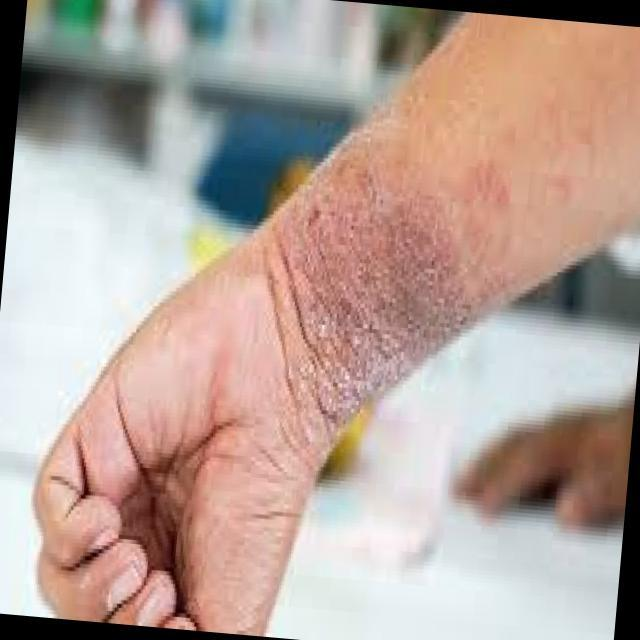Eczema: (273, 161, 475, 443)
